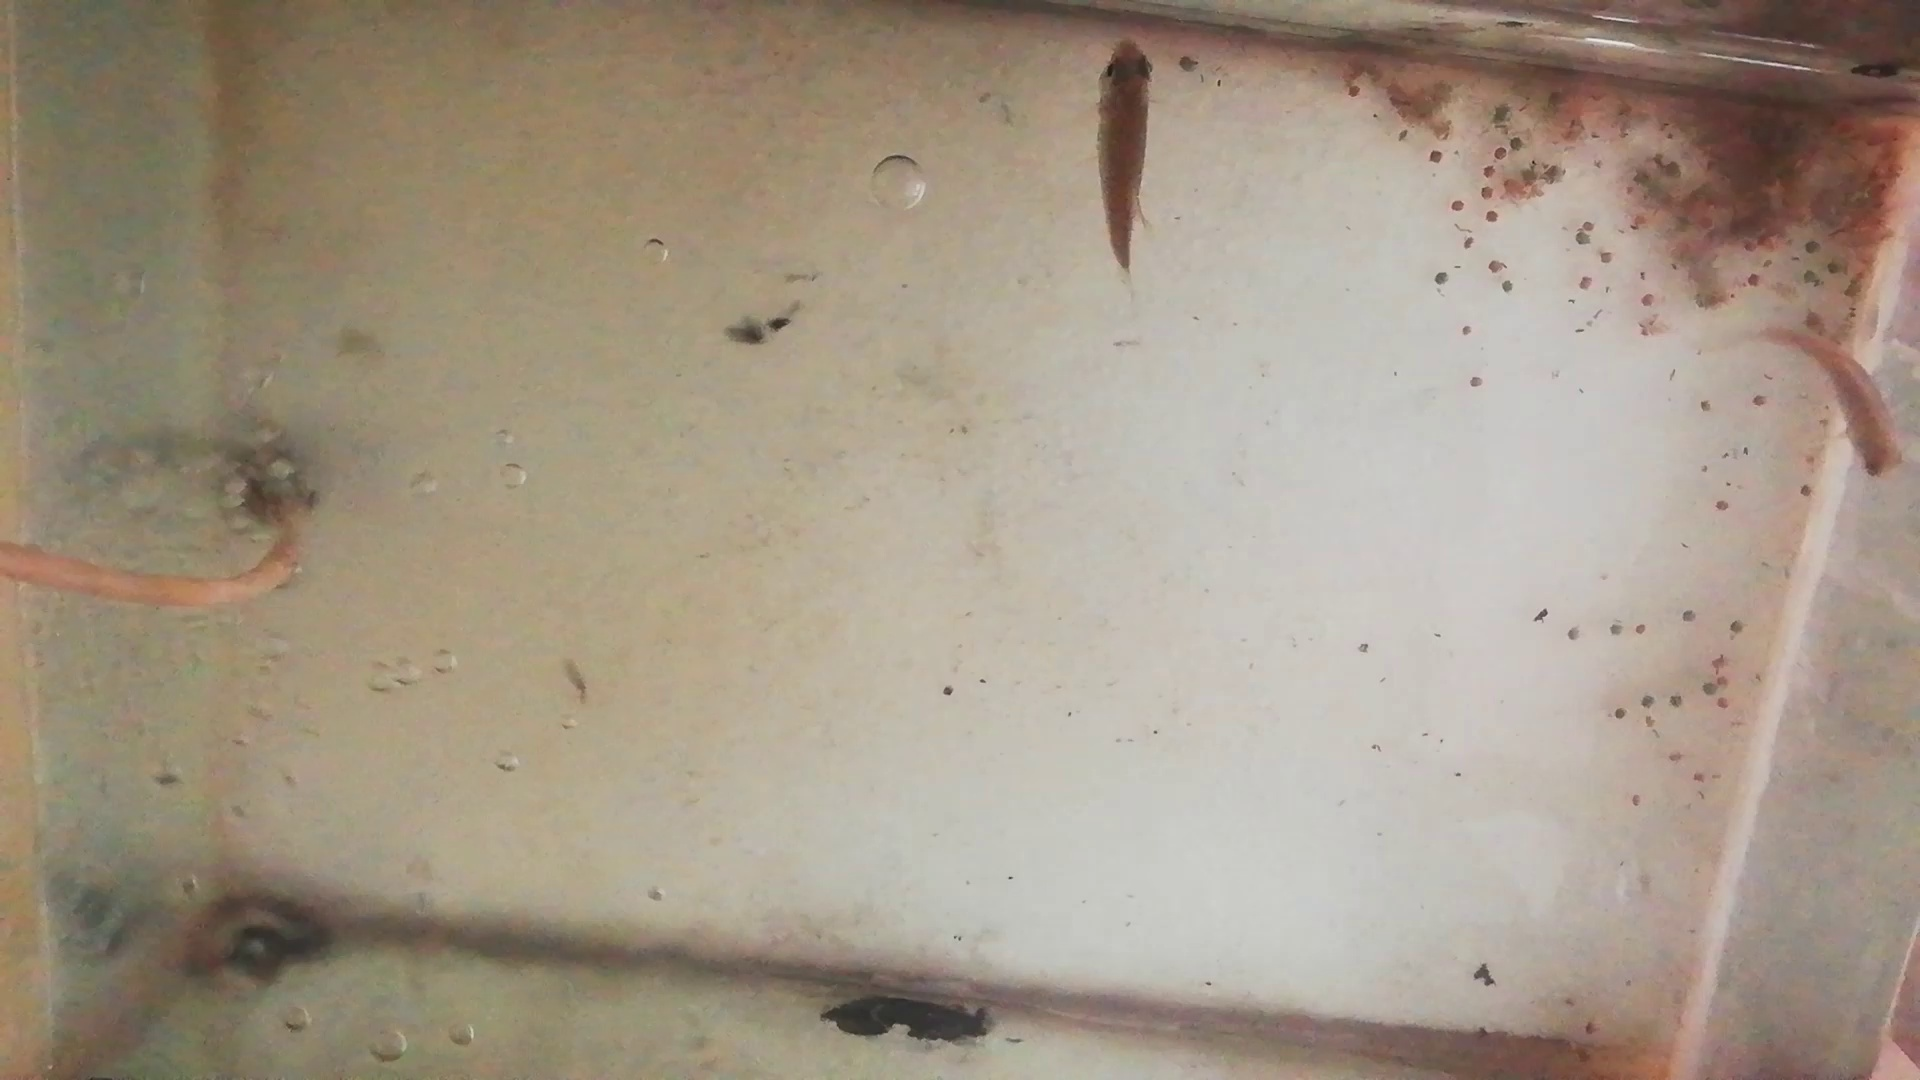fish: (1758, 326, 1907, 491), (1092, 36, 1155, 272)
